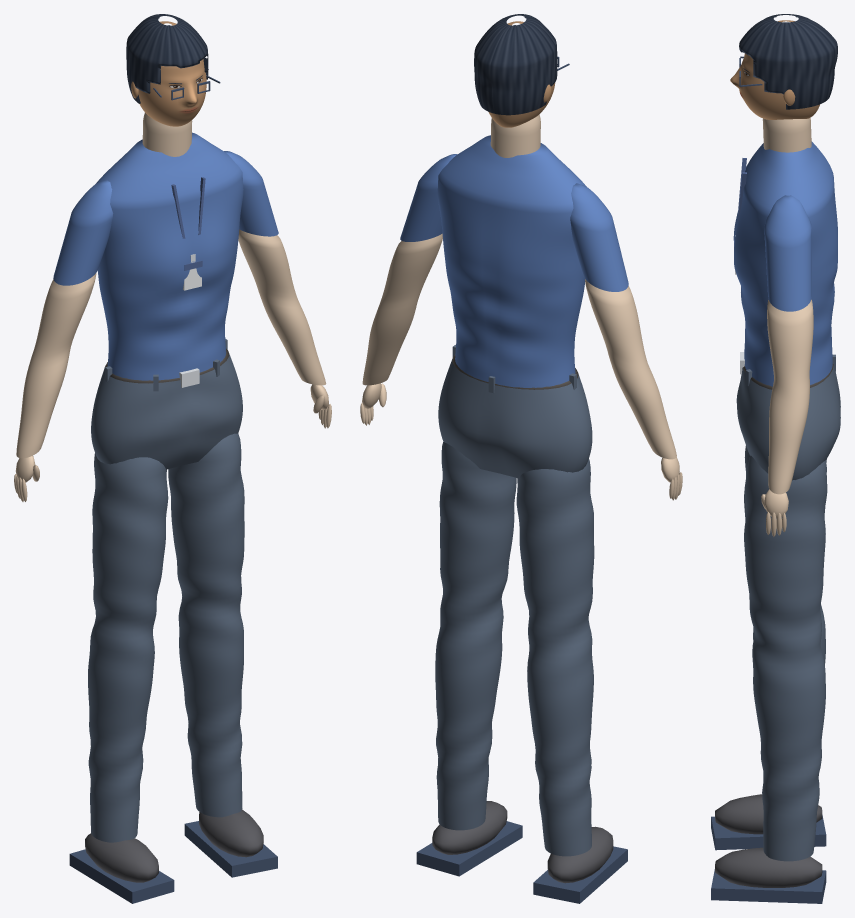
Rendered from csl_char_budi (1).glb.
3 renders of one model, left to right at view 1: azimuth 30°, elevation 25°; view 2: azimuth 150°, elevation 25°; view 3: azimuth 270°, elevation 25°, orthographic.
Parts seen in each view (by area): view 1: Torso, ShinL, ShinR, LegL, LegR, Head, ArmL, ForeArmL, ForeArmR, ArmR; view 2: Torso, ShinL, ShinR, LegL, LegR, Head, ArmL, ForeArmL, ArmR, ForeArmR; view 3: Torso, ShinR, LegR, Head, ArmR, ForeArmR, ShinL.
Part boxes in pixels (box(x1,y1,x2,y2)): Torso: box(91, 113, 243, 469); ShinL: box(69, 631, 174, 903); ShinR: box(178, 610, 277, 877); LegL: box(92, 453, 168, 646); LegR: box(168, 433, 244, 624); Head: box(126, 14, 220, 126); ArmL: box(38, 180, 113, 339); ForeArmL: box(14, 327, 77, 501); ForeArmR: box(251, 271, 331, 428); ArmR: box(224, 151, 291, 282); Torso: box(437, 114, 592, 478); ShinL: box(527, 640, 627, 903); ShinR: box(416, 620, 522, 876); LegL: box(516, 459, 594, 655); LegR: box(439, 442, 516, 633); Head: box(474, 14, 569, 127); ArmL: box(570, 183, 642, 347); ForeArmL: box(601, 332, 682, 500); ArmR: box(385, 154, 457, 289); ForeArmR: box(360, 280, 425, 425); Torso: box(733, 118, 840, 480); ShinR: box(711, 646, 826, 903); LegR: box(744, 455, 827, 658); Head: box(730, 14, 837, 119); ArmR: box(764, 195, 813, 370); ForeArmR: box(761, 359, 810, 536); ShinL: box(711, 604, 826, 850).
Bounding box in the file's own units: 0.6682 × 1.73 × 0.2399.
Materials: 12 (1 with a texture image).
